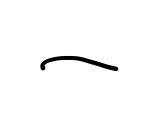minus: (38, 55, 118, 74)
